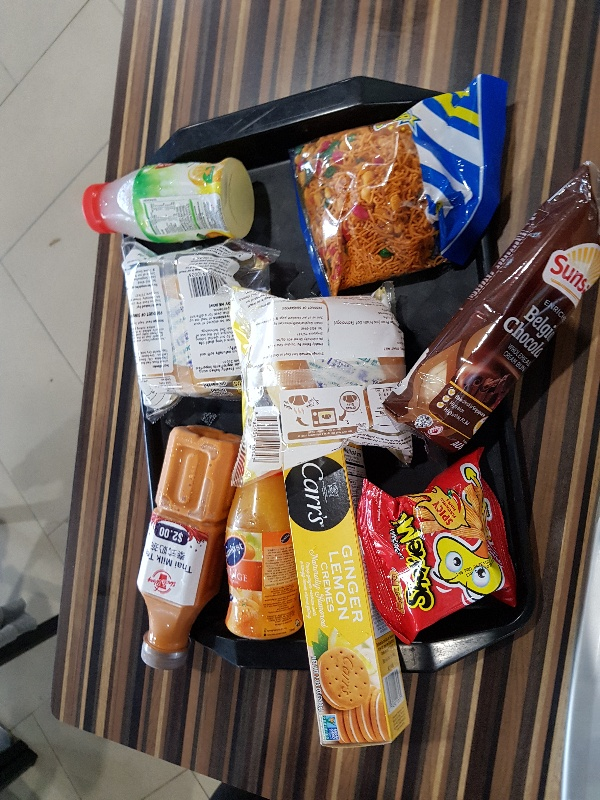Carr's Ginger Lemon Cremes: (281, 444, 411, 749)
Dayplus Banana: (228, 283, 412, 476)
Dayplus Red Bean: (119, 236, 272, 419)
Fruit Tree Yuzu Mixed Juice Drink: (81, 157, 256, 244)
ShoyueMi Spicy Flavoured Snacks: (357, 447, 517, 645)
Star Tidbits Mixer: (289, 75, 507, 293)
Sunkist Orange Juice Drink: (224, 468, 303, 639)
Sunshine Belgium Chocolate Wholemeal Cream Bun: (381, 162, 600, 456)
Thai Milk Tea: (135, 426, 243, 672)
